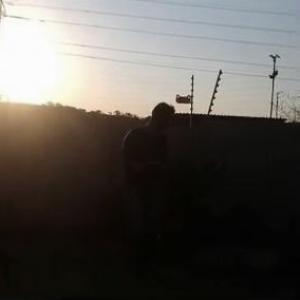follow: (112, 97, 173, 299)
